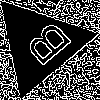B: (15, 19, 74, 74)
